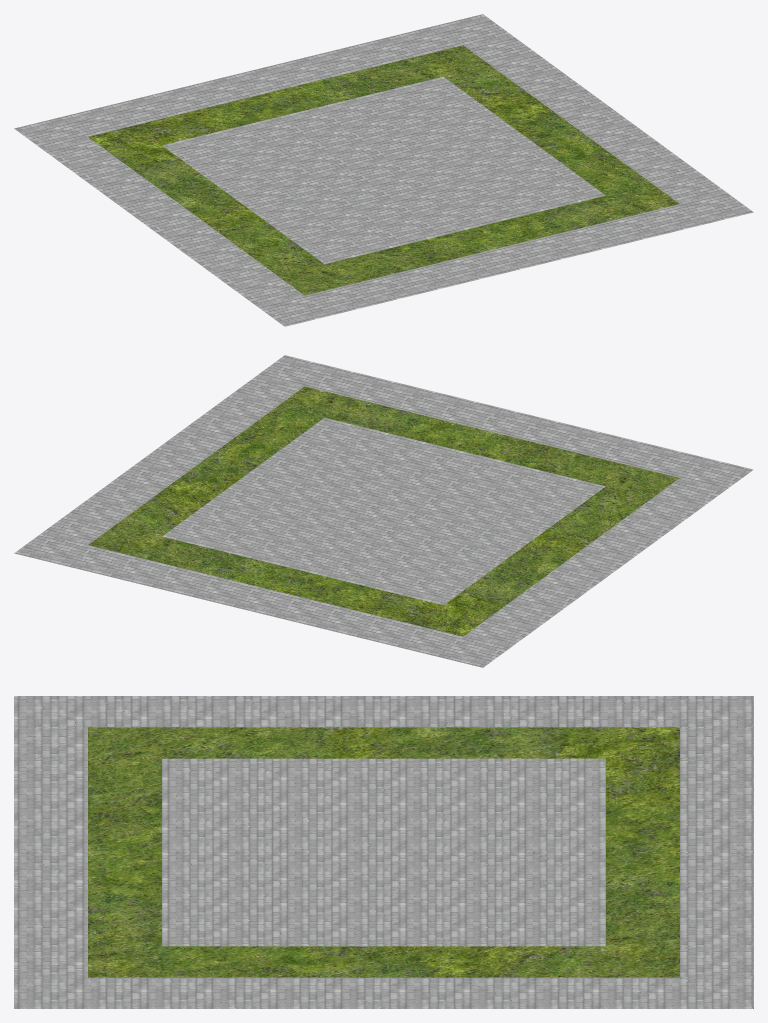
File: Piso.obj
3 renders of one model, top to bottom at view 1: azimuth 30°, elevation 25°; view 2: azimuth 150°, elevation 25°; view 3: azimuth 270°, elevation 25°, orthographic. The views are drawn at different scales.
Visible parts, largest first — view 1: Piso; view 2: Piso; view 3: Piso.
Boxes of the visible parts, x1=… form: Piso: x1=14, y1=14, x2=753, y2=326; Piso: x1=14, y1=355, x2=753, y2=667; Piso: x1=14, y1=696, x2=753, y2=1008.
Size of the model in its own units: 100 by 1.5e-05 by 100.
Materials: 2 (2 with a texture image).
